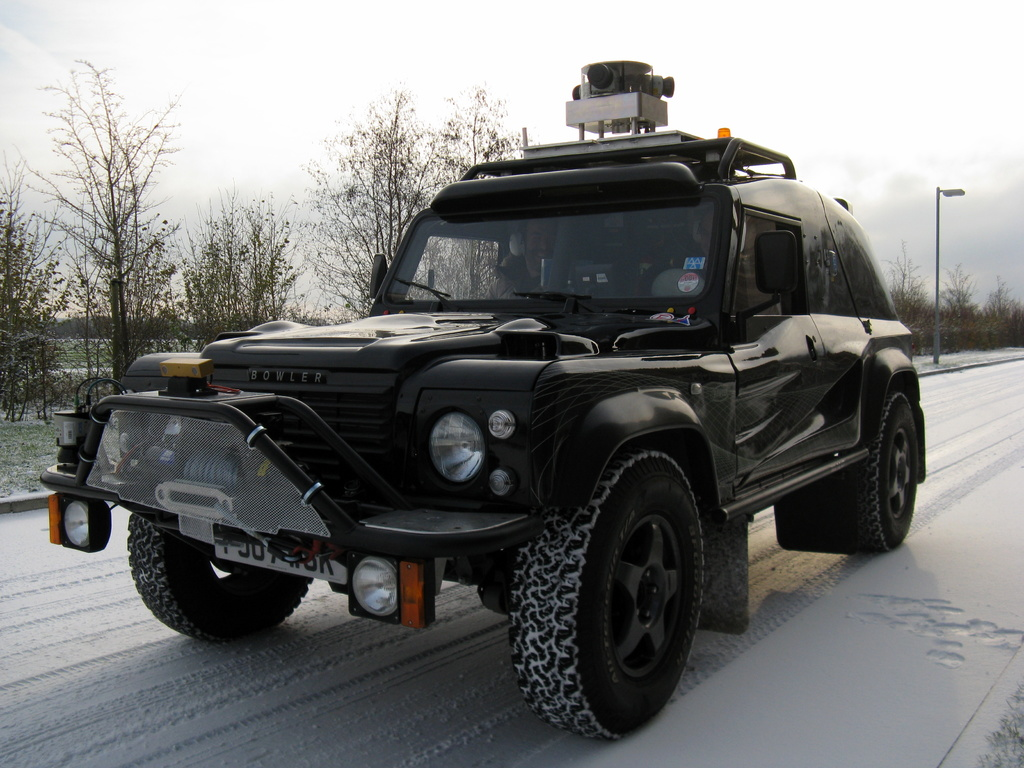cars: (67, 99, 936, 716)
